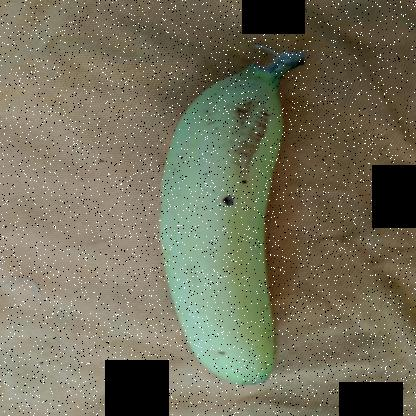ripe: (147, 63, 298, 387)
